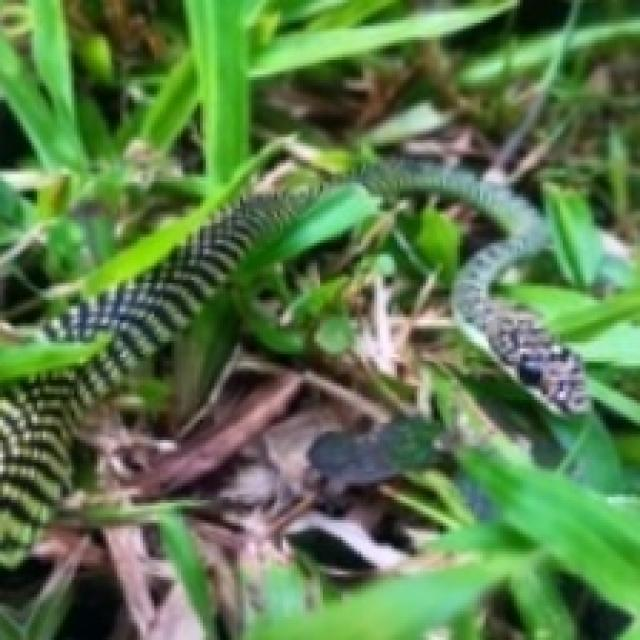paradise tree snake: (0, 171, 543, 634)
